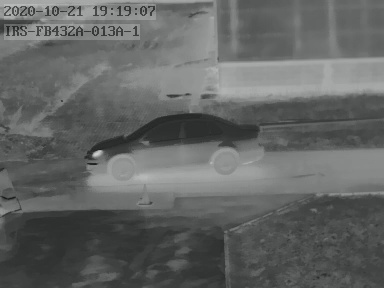vehicle: (84, 112, 261, 178)
